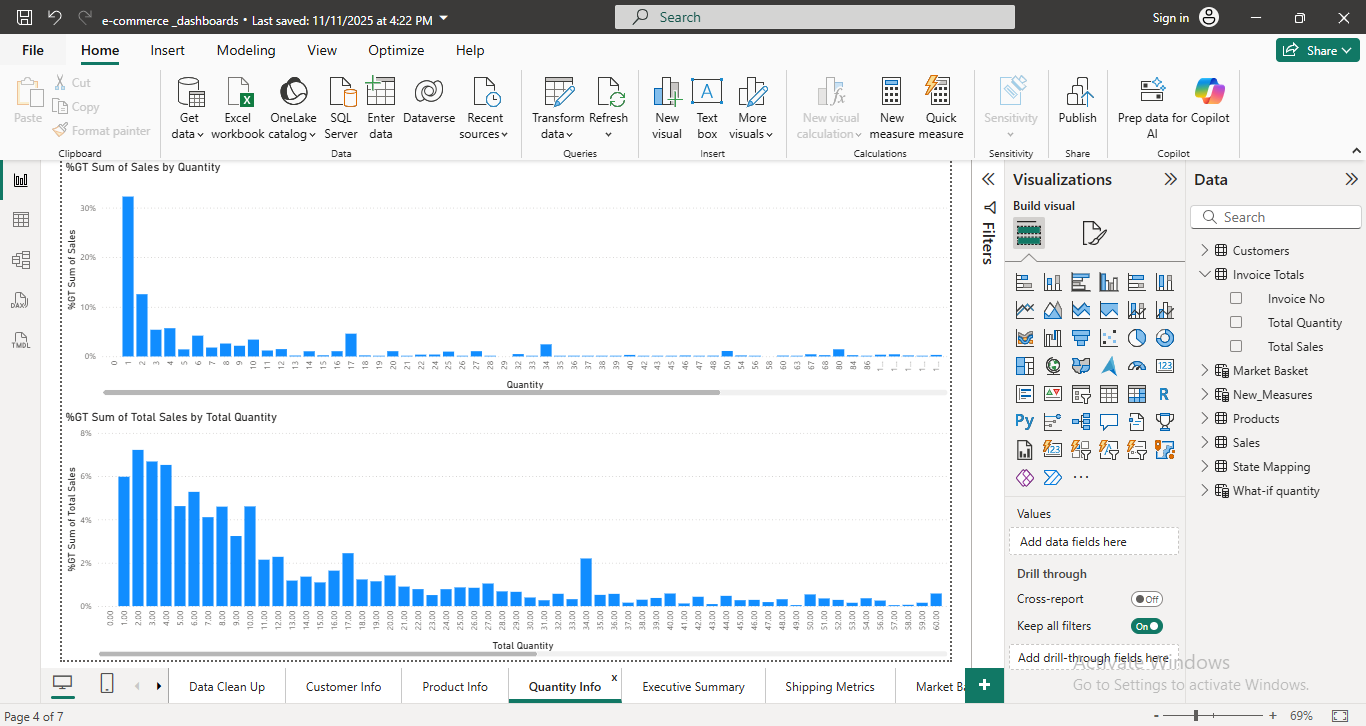

This screenshot's page, from the dashboard's own definition file:
{"tool":"powerbi","page":{"name":"Quantity Info","canvas":[1280,720],"ordinal":3},"visuals":[{"type":"clusteredColumnChart","fields":{"Category":["Invoice Totals.Total Quantity"],"Y":["CountNonNull(Invoice Totals.Total Sales)"]},"box":[0,360.4,1280,360.4],"z":0},{"type":"clusteredColumnChart","fields":{"Category":["Sales.Quantity"],"Y":["Sum(Sales.Sales)"]},"box":[0,0,1280,343.9],"z":1000}]}

Visuals, with their boxes on the page's 1280x720 design canvas (x1, y1, x2, y2). These are canvas units, not pixel positions in the 1366x726 screenshot, which may show the page scaled, cropped or inside an application window:
clusteredColumnChart - Invoice Totals.Total Quantity x CountNonNull(Invoice Totals.Total Sales): [x1=0, y1=360, x2=1280, y2=721]
clusteredColumnChart - Sales.Quantity x Sum(Sales.Sales): [x1=0, y1=0, x2=1280, y2=344]
